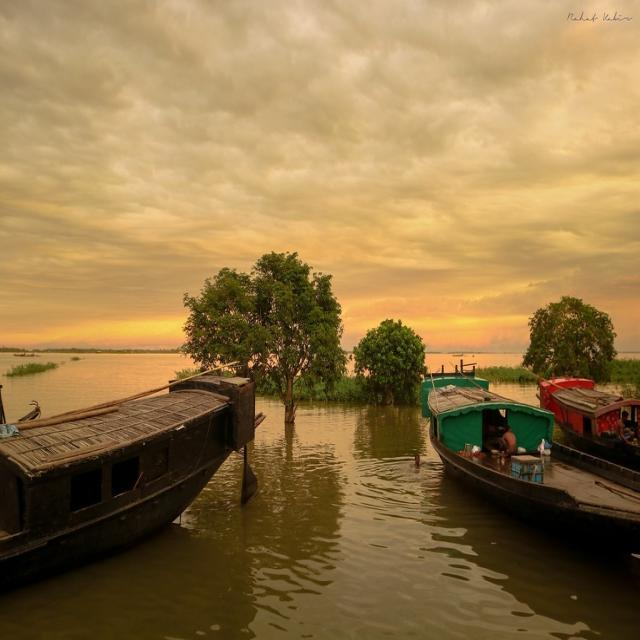Hyacinth: (0, 353, 65, 383)
boat: (413, 361, 640, 551)
